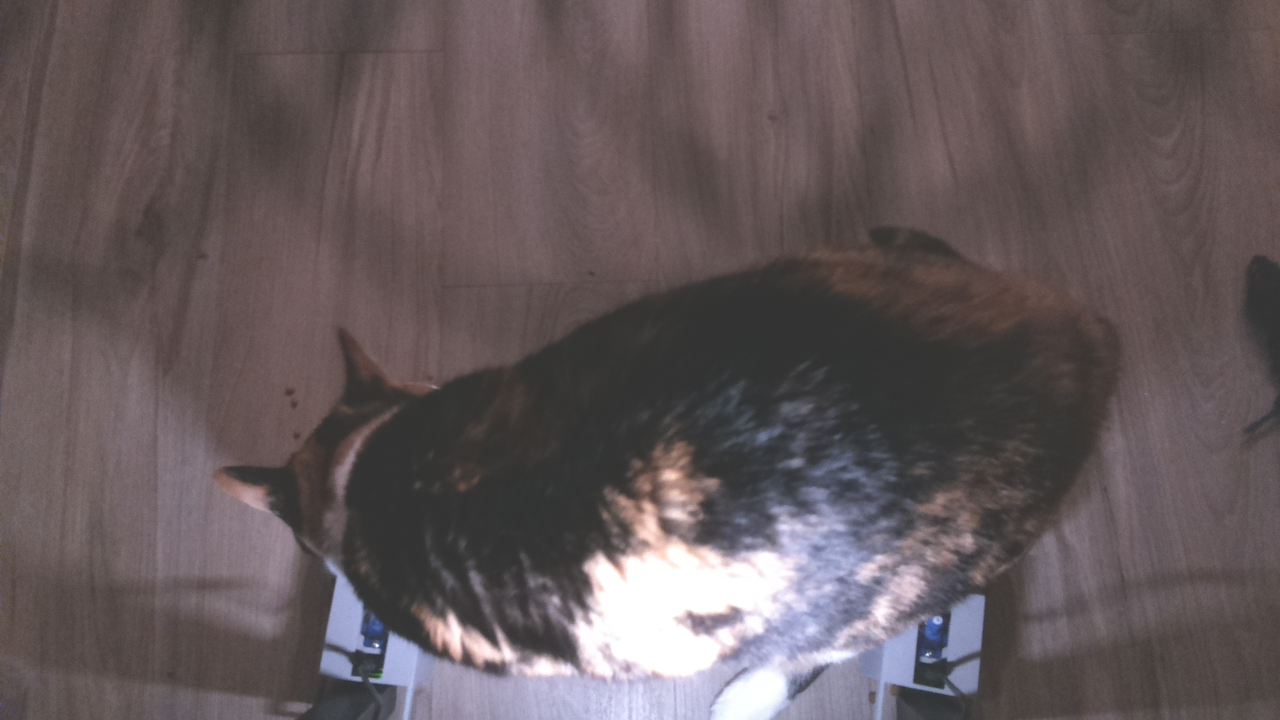bella_eating: (212, 334, 519, 632)
